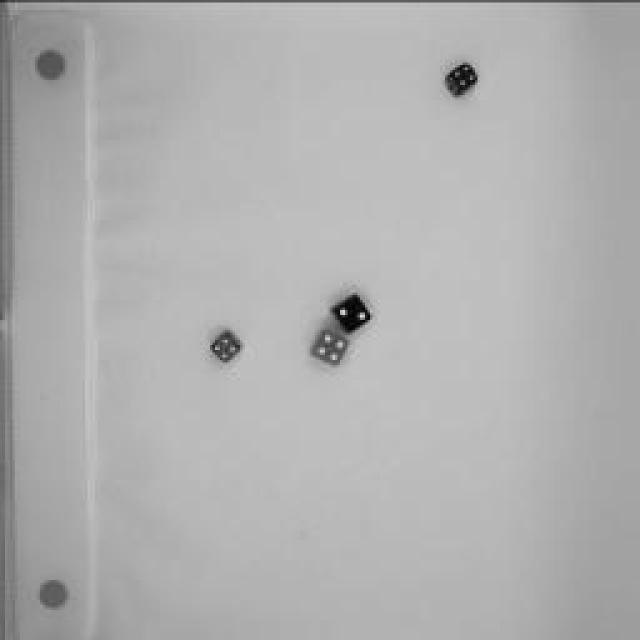dice_2: (326, 286, 376, 342)
dice_4: (304, 320, 356, 370), (205, 324, 245, 366), (441, 60, 481, 100)
